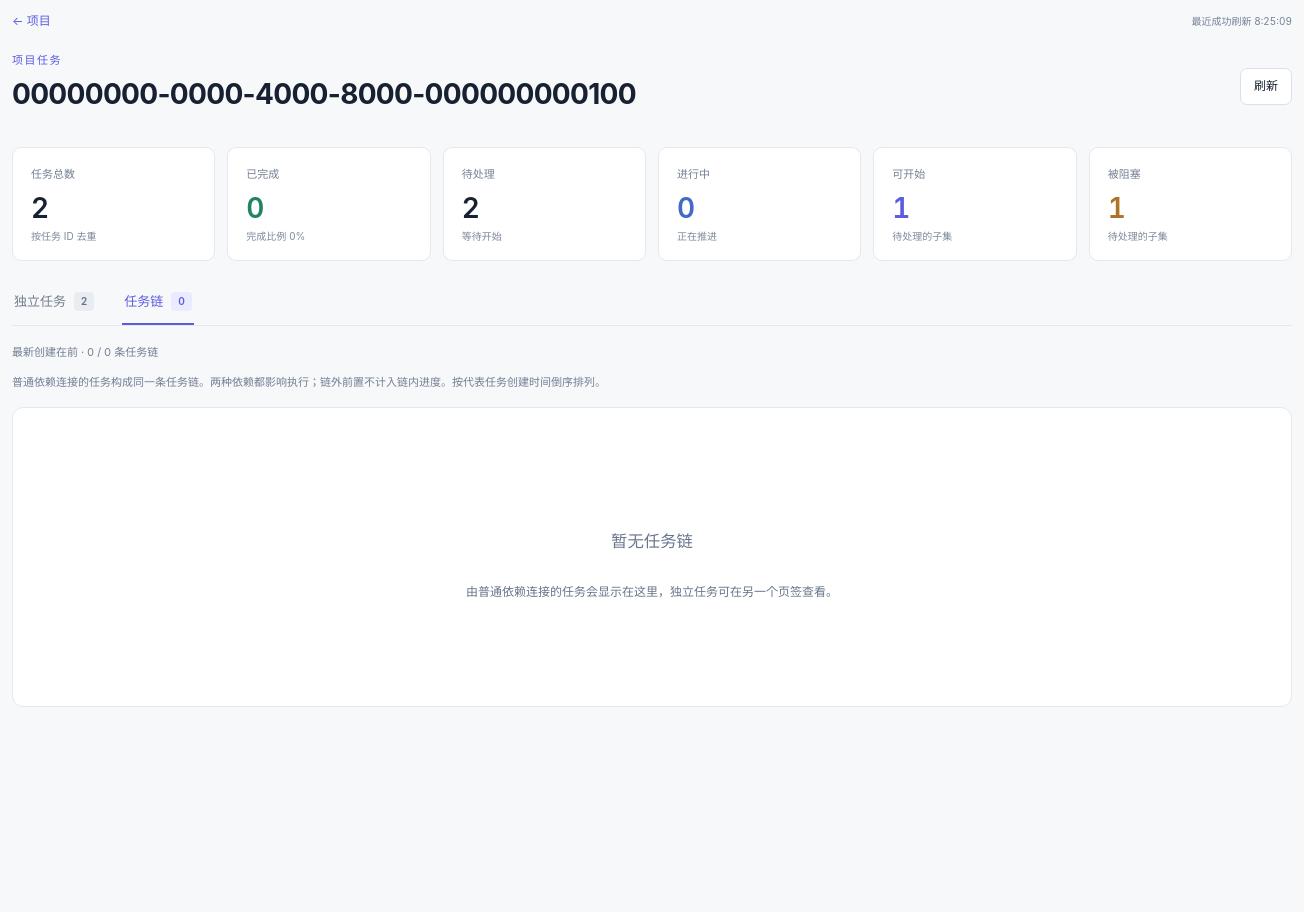
project task views › keeps an externally blocked singleton outside ordinary chains
Expected: the tab "任务链 0" is shown, [122,291,194,325]
Expected: the heading "暂无任务链" is shown, [611,529,693,554]
Click the tab "独立任务 2" at (54, 308), box [12,291,96,325]
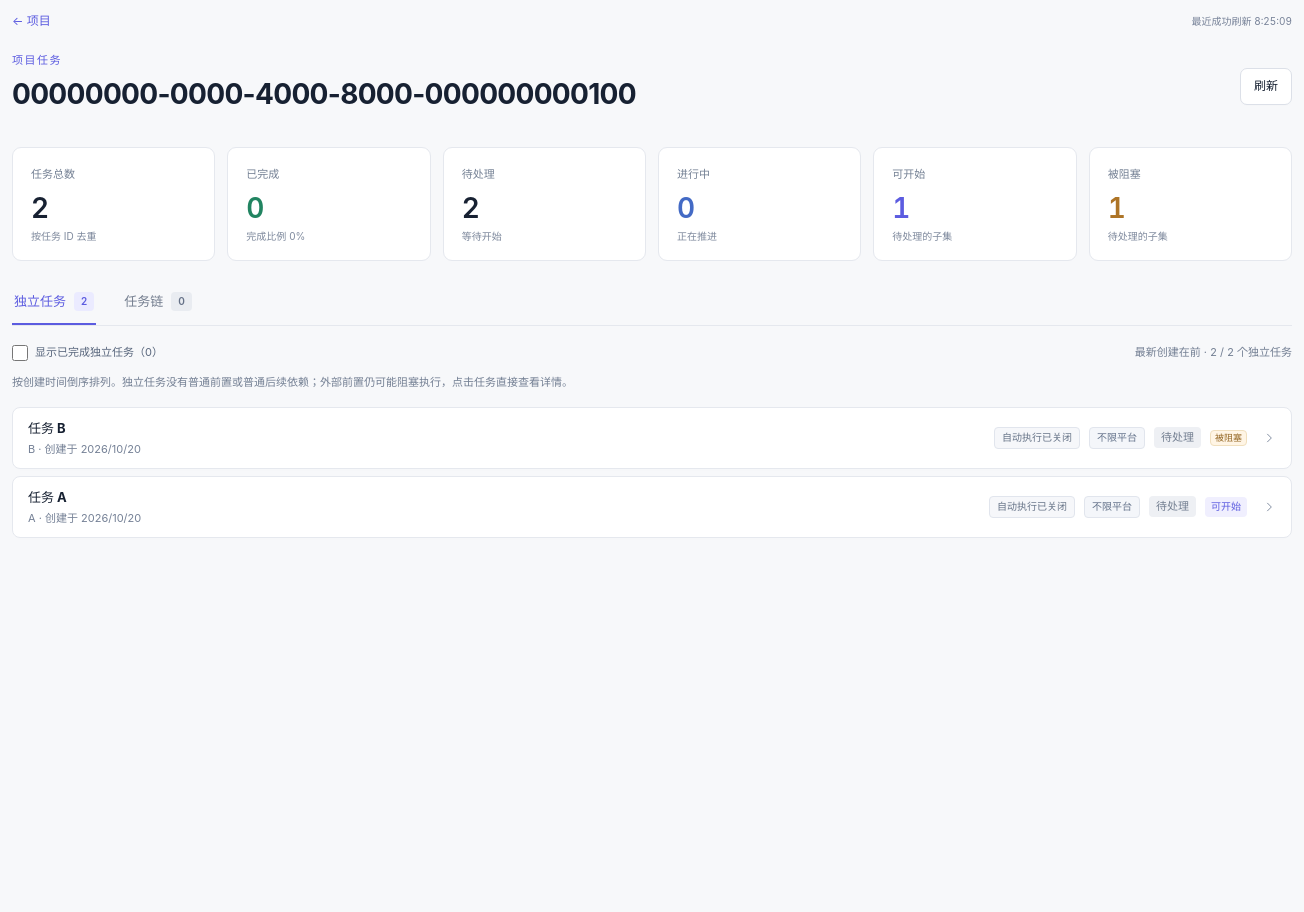
Expected: the button with id "standalone-task-B" is shown, [12,407,1292,469]
Expected: the text with class "task-ready" reads "可开始", [1211,500,1241,512]
Expected: the text with class "graph-blocked-badge" reads "被阻塞", [1215,432,1242,443]
